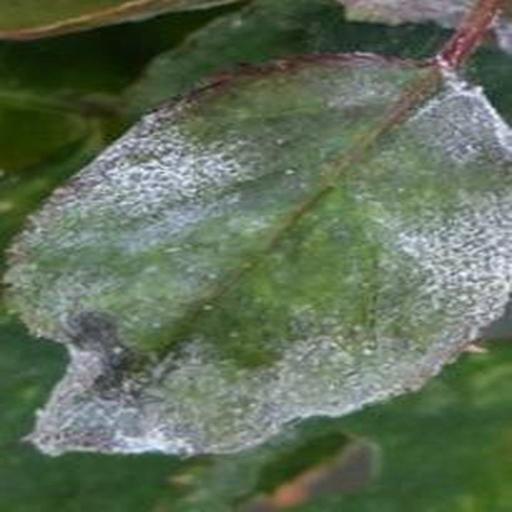powdery_mildew: (5, 0, 512, 456)
